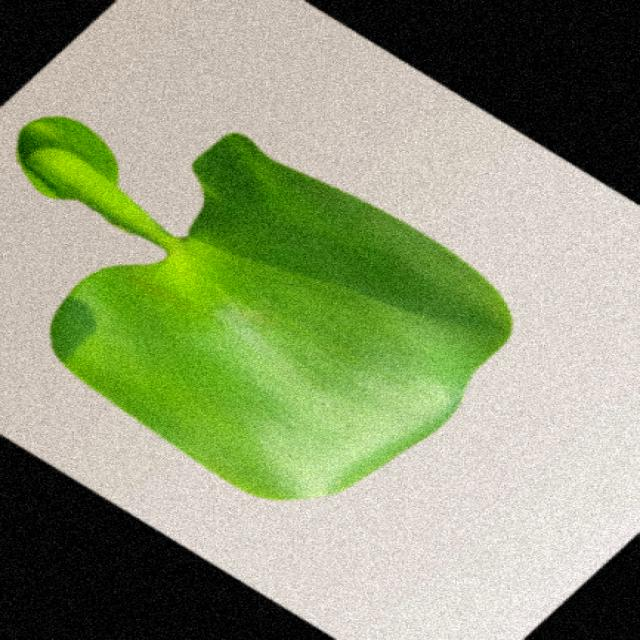daun sehat: (17, 117, 511, 500)
